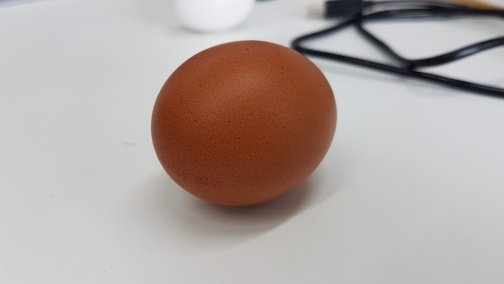egg: (147, 36, 340, 211)
